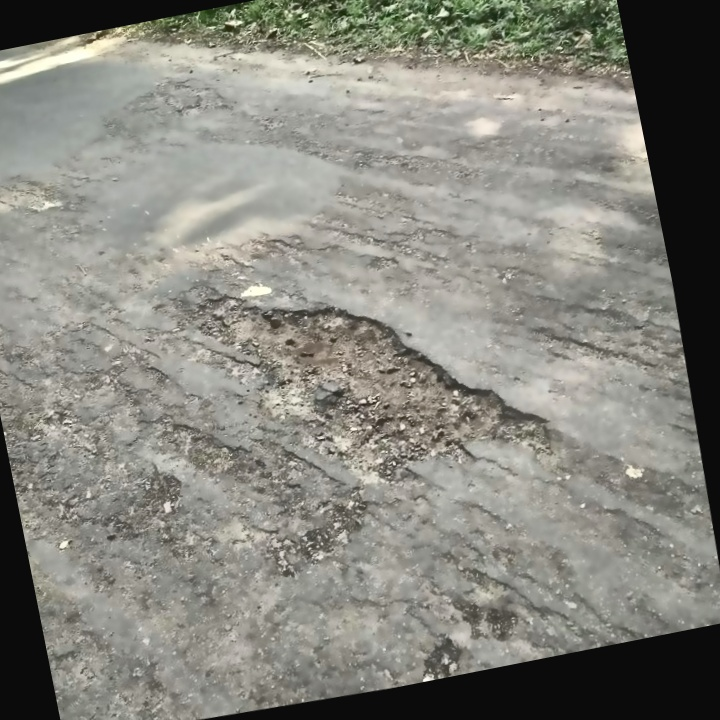pothole: (178, 231, 570, 531)
